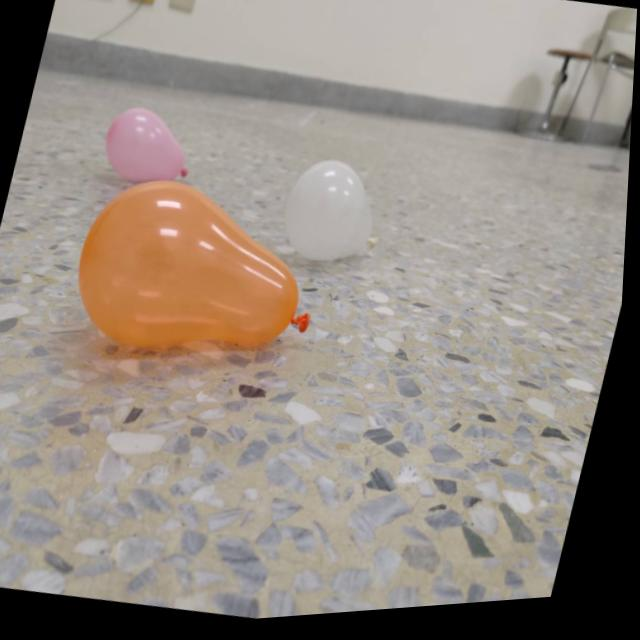other: (63, 160, 344, 387), (278, 155, 400, 278), (96, 99, 204, 196)
